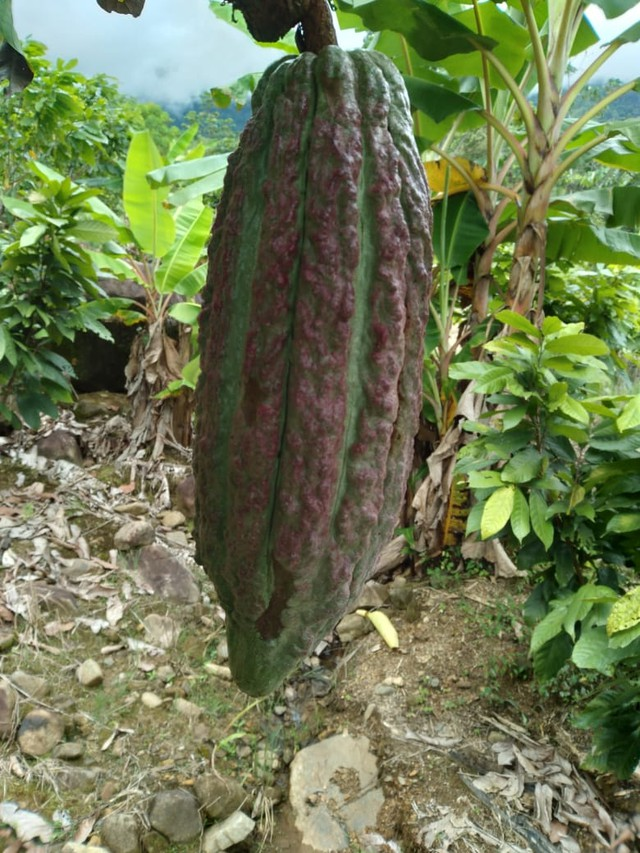Health: (171, 34, 446, 709)
